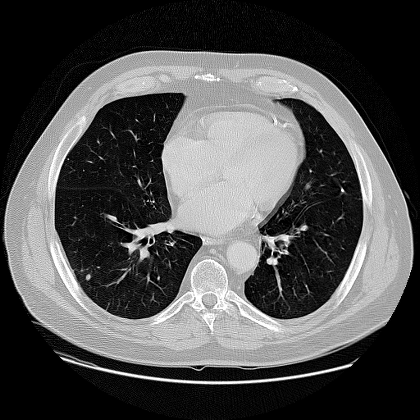nodule: (85, 274, 91, 280)
